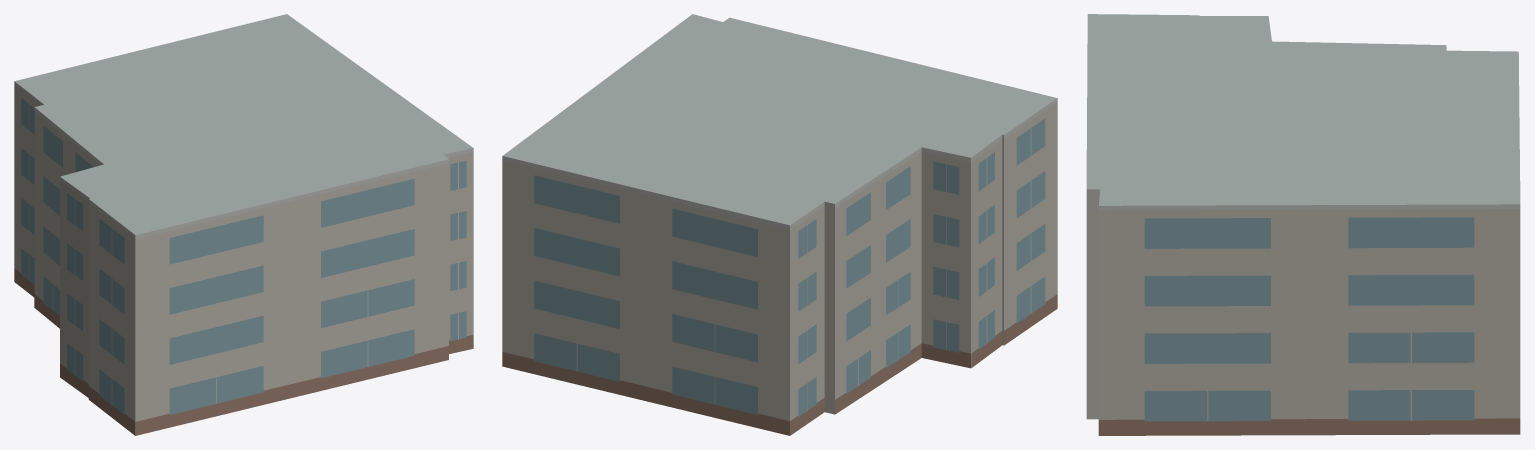
File: survey-upis-32502070.glb
3 views of the same model, side by side, from view 1: azimuth 30°, elevation 25°; view 2: azimuth 150°, elevation 25°; view 3: azimuth 270°, elevation 25° (orthographic). The views are drawn at different scales.
Parts seen in each view (by area): view 1: survey-upis-32502070.tmp; view 2: survey-upis-32502070.tmp; view 3: survey-upis-32502070.tmp.
Boxes of the visible parts, x1,y1,x2,y2 form: survey-upis-32502070.tmp: [14, 14, 473, 435]; survey-upis-32502070.tmp: [502, 14, 1057, 435]; survey-upis-32502070.tmp: [1086, 14, 1520, 435].
Size of the model in its own units: 21.65 by 12.1 by 20.69.
